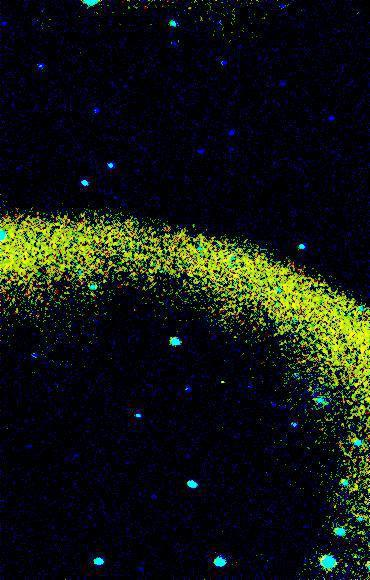star: (208, 364, 238, 394)
